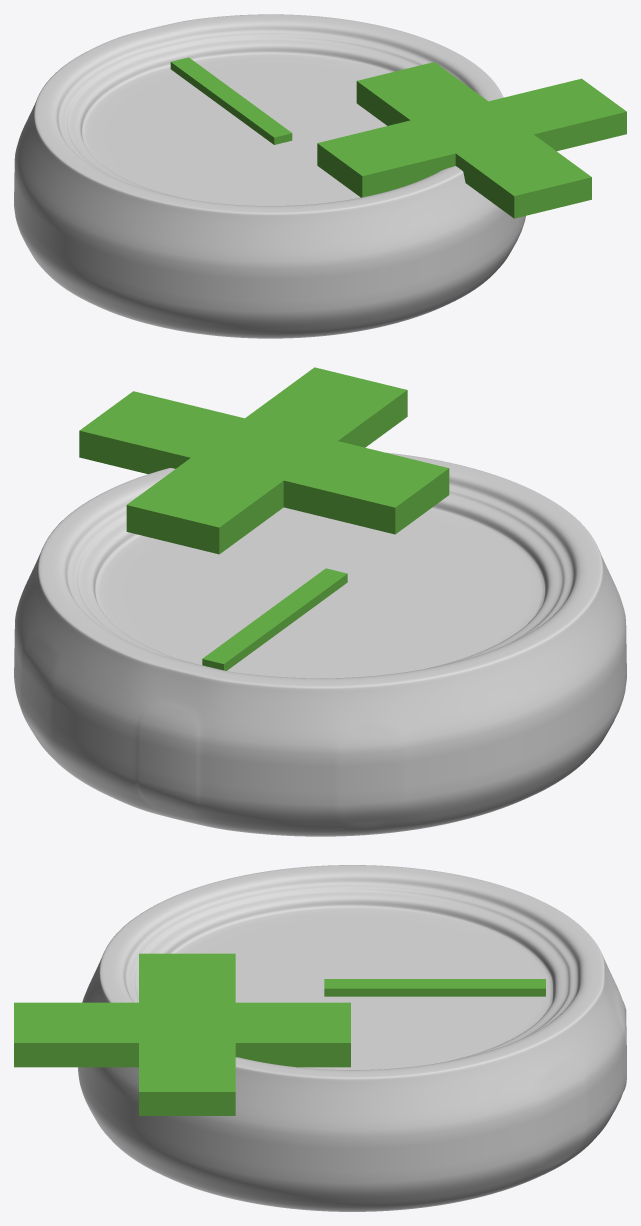
3 renders of one model, top to bottom at view 1: azimuth 30°, elevation 25°; view 2: azimuth 150°, elevation 25°; view 3: azimuth 270°, elevation 25°, orthographic. The views are drawn at different scales.
Parts seen in each view (by area): view 1: Torus.004_Torus.003; view 2: Torus.004_Torus.003; view 3: Torus.004_Torus.003.
Part boxes in pixels (x1,y1,x2,y2): Torus.004_Torus.003: (14,14,626,338); Torus.004_Torus.003: (14,367,626,836); Torus.004_Torus.003: (14,865,626,1211).
Size of the model in its own units: 0.4012 by 0.1161 by 0.4158.
